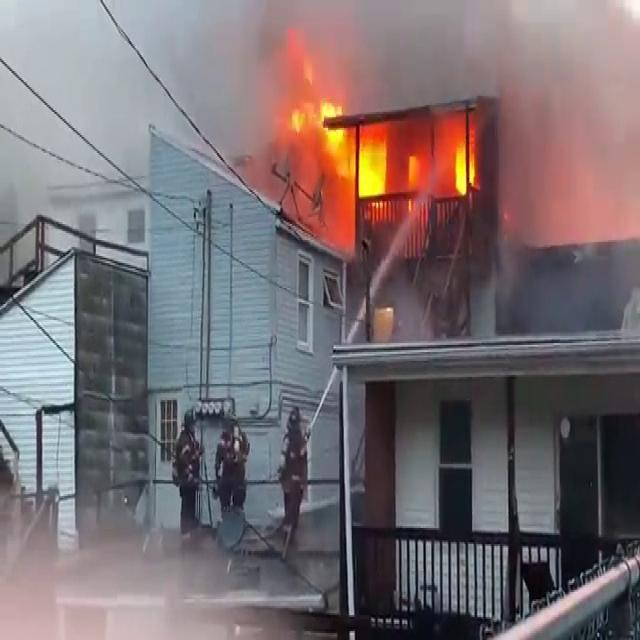Fire: (284, 78, 480, 228), (448, 116, 479, 204)
